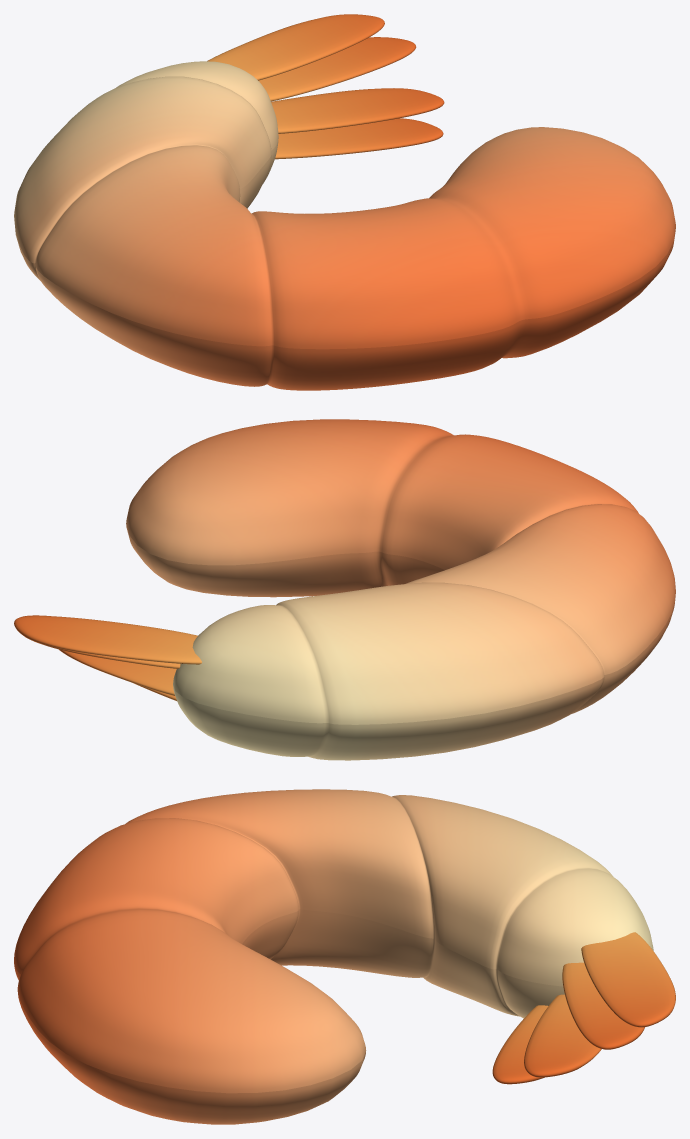
The model's file is HH_CookedShrimp.fbx.
3 views of the same model, one above another, from view 1: azimuth 30°, elevation 25°; view 2: azimuth 150°, elevation 25°; view 3: azimuth 270°, elevation 25° (orthographic). The views are drawn at different scales.
Visible parts, largest first — view 1: Top.001, Bottom.001; view 2: Top.001, Bottom.001; view 3: Top.001, Bottom.001.
Part boxes in pixels (x1,y1,x2,y2): Top.001: [14, 14, 675, 349]; Bottom.001: [15, 88, 675, 390]; Top.001: [14, 419, 675, 724]; Bottom.001: [59, 525, 675, 760]; Top.001: [14, 789, 675, 1093]; Bottom.001: [14, 909, 601, 1124].
Size of the model in its own units: 115 by 30 by 119.
1 material, 1 textured.
